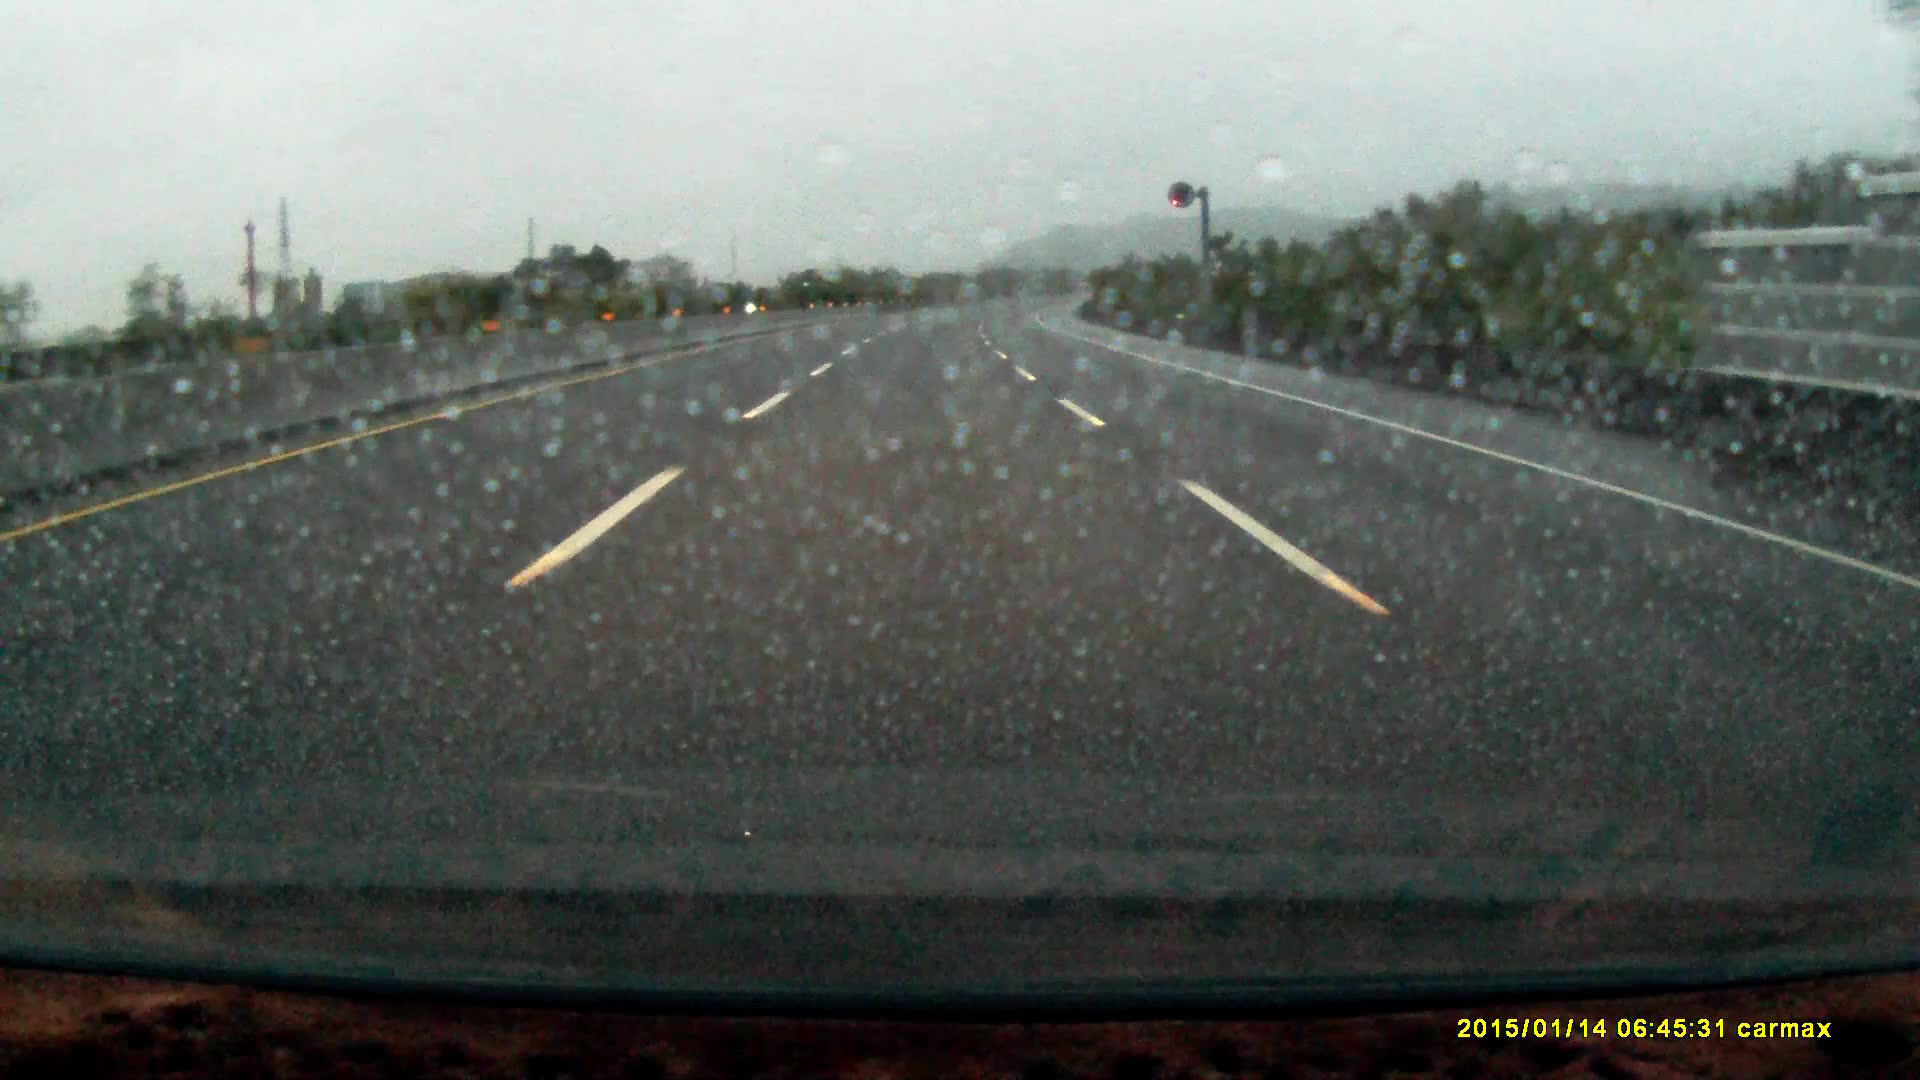vehicle: (800, 266, 840, 306)
